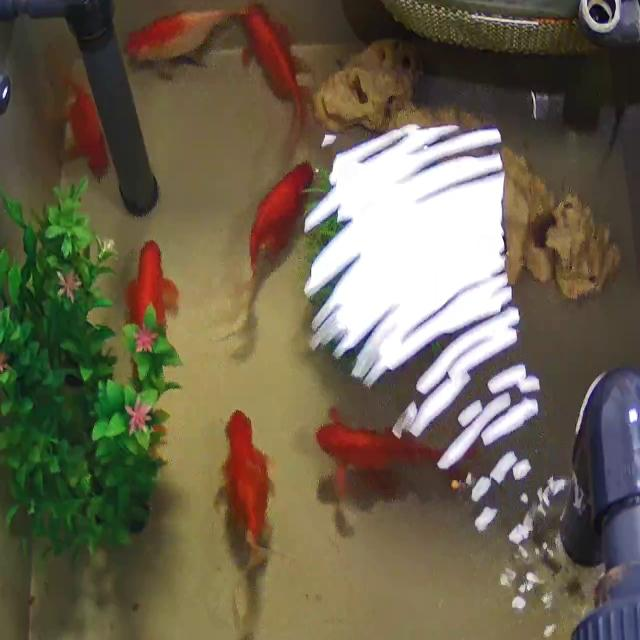fish: (220, 150, 322, 336), (313, 411, 459, 526), (39, 43, 120, 180), (118, 0, 235, 89), (217, 405, 271, 597), (240, 5, 317, 138), (113, 226, 180, 346)
